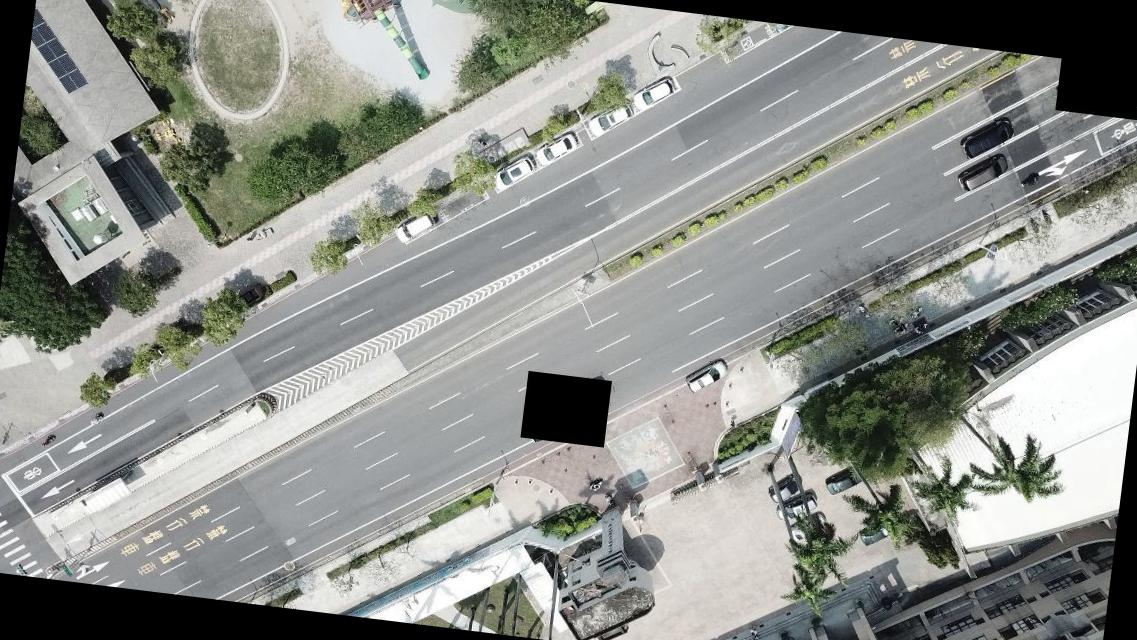vehicle: (958, 110, 1014, 158), (956, 149, 1008, 193), (586, 98, 631, 141), (820, 464, 868, 501), (685, 356, 728, 396), (493, 152, 534, 192), (395, 206, 436, 246), (536, 127, 575, 168), (633, 76, 675, 114), (788, 508, 828, 547), (775, 488, 816, 524), (860, 516, 894, 548), (769, 470, 801, 503), (1118, 69, 1136, 115)
